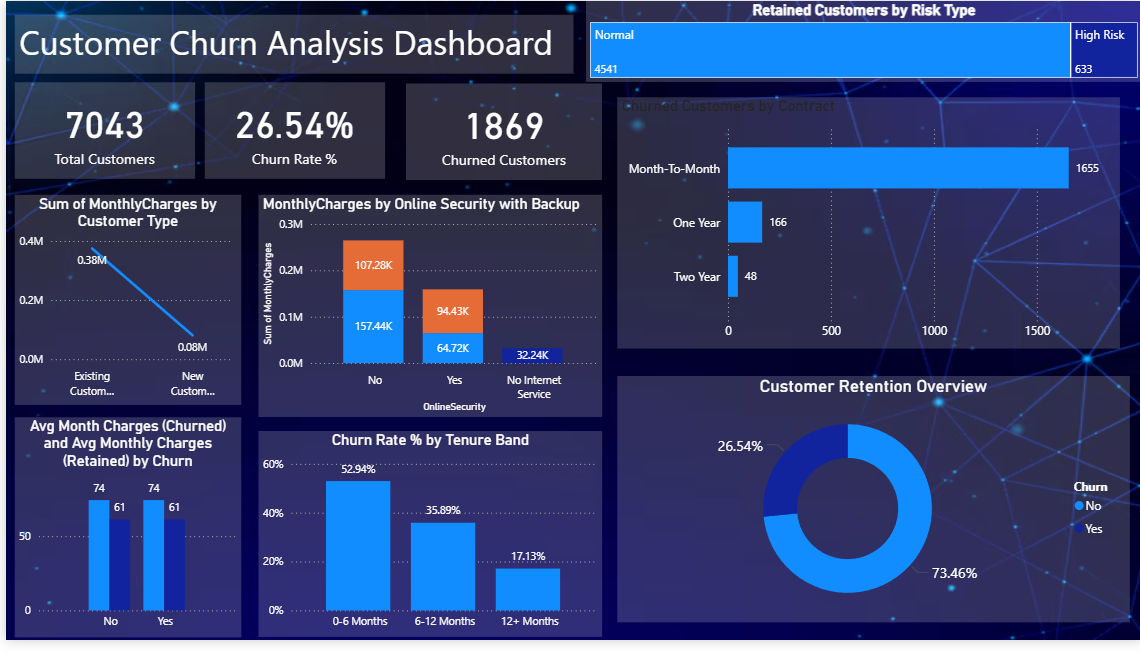

The page's visual inventory and layout, read from the dashboard file:
{"tool":"powerbi","page":{"name":"Page 1","canvas":[1280,720],"ordinal":0},"visuals":[{"type":"treemap","fields":{"Group":["telco_churn_unclean.Risk Type"],"Values":["Calculated Measure.Retained Customers"]},"box":[653.5,0,626.8,91.5],"z":0},{"type":"card","fields":{"Values":["Calculated Measure.Total Customers"]},"box":[9.9,91.5,202.8,108.5],"z":1000},{"type":"textbox","box":[9.9,15.5,629.6,66.2],"z":2000},{"type":"card","fields":{"Values":["Calculated Measure.Churn Rate %"]},"box":[223.9,91.5,202.8,108.5],"z":3000},{"type":"card","fields":{"Values":["Calculated Measure.Churned Customers"]},"box":[450.7,93,221.1,108.5],"z":4000},{"type":"donutChart","title":"Customer Retention Overview","fields":{"Y":["Calculated Measure.Total Customers"],"Category":["telco_churn_unclean.Churn"]},"box":[688.7,422.5,577.5,277.5],"z":5000},{"type":"clusteredBarChart","fields":{"Y":["Calculated Measure.Churned Customers"],"Category":["telco_churn_unclean.Contract"]},"box":[688.7,108.5,566.2,283.1],"z":6000},{"type":"columnChart","title":"MonthlyCharges by Online Security with Backup","fields":{"Category":["telco_churn_unclean.OnlineSecurity"],"Y":["Sum(telco_churn_unclean.MonthlyCharges)"],"Series":["telco_churn_unclean.OnlineBackup"]},"box":[284.5,218.3,387.3,250.7],"z":7000},{"type":"clusteredColumnChart","fields":{"Category":["telco_churn_unclean.Churn"],"Y":["Calculated Measure.Avg Month Charges (Churned)","Calculated Measure.Avg Monthly Charges (Retained)"]},"box":[9.9,469,254.9,247.9],"z":8000},{"type":"clusteredColumnChart","fields":{"Y":["Calculated Measure.Churn Rate %"],"Category":["telco_churn_unclean.Tenure Band"]},"box":[284.5,484.5,387.3,232.4],"z":9000},{"type":"lineChart","fields":{"Category":["telco_churn_unclean.Customer Type"],"Y":["Sum(telco_churn_unclean.MonthlyCharges)"]},"box":[9.9,218.3,254.9,236.6],"z":10000}]}

Visuals, with their boxes in screenshot pixels (x1, y1, x2, y2), scaled from the page's 1280x720 canvas onto the 1140x653 screenshot:
treemap - telco_churn_unclean.Risk Type x Calculated Measure.Retained Customers: locate(582, 0, 1139, 83)
card - Calculated Measure.Total Customers: locate(9, 83, 189, 181)
textbox: locate(9, 14, 570, 74)
card - Calculated Measure.Churn Rate %: locate(199, 83, 380, 181)
card - Calculated Measure.Churned Customers: locate(401, 84, 598, 183)
"Customer Retention Overview" donutChart: locate(613, 383, 1128, 635)
clusteredBarChart - Calculated Measure.Churned Customers x telco_churn_unclean.Contract: locate(613, 98, 1118, 355)
"MonthlyCharges by Online Security with Backup" columnChart: locate(253, 198, 598, 425)
clusteredColumnChart - telco_churn_unclean.Churn x Calculated Measure.Avg Month Charges (Churned): locate(9, 425, 236, 650)
clusteredColumnChart - Calculated Measure.Churn Rate % x telco_churn_unclean.Tenure Band: locate(253, 439, 598, 650)
lineChart - telco_churn_unclean.Customer Type x Sum(telco_churn_unclean.MonthlyCharges): locate(9, 198, 236, 413)
